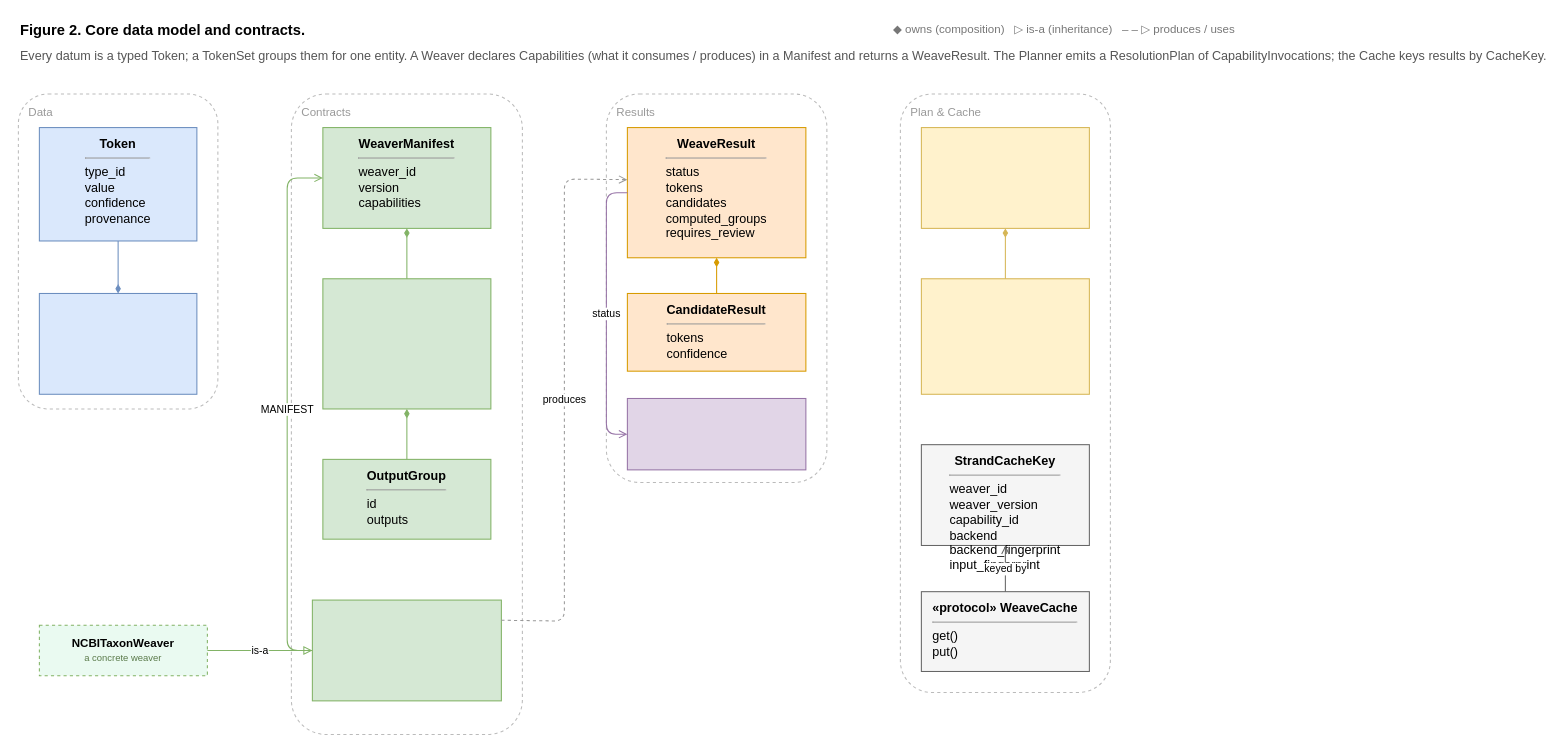
This 1566x753 diagram has some shape labels left out. Each missing label, with the centre of its shape:
"Capability id consumes produces backends cost" belongs at point 406,343.
"CapabilityInvocation capability_id primary_backend fallback_backends fallback_on" belongs at point 1004,336.
"ResolutionPlan steps from_types to_types" belongs at point 1004,177.
"TokenSet entity_id tokens requires_review" belongs at point 117,343.
"«abstract» BaseWeaver backend_fingerprint(backend) execute() execute_batch()" belongs at point 406,650.
"«enum» WeaveStatus OK · NO_MATCH AMBIGUOUS · ERROR" belongs at point 716,433.
